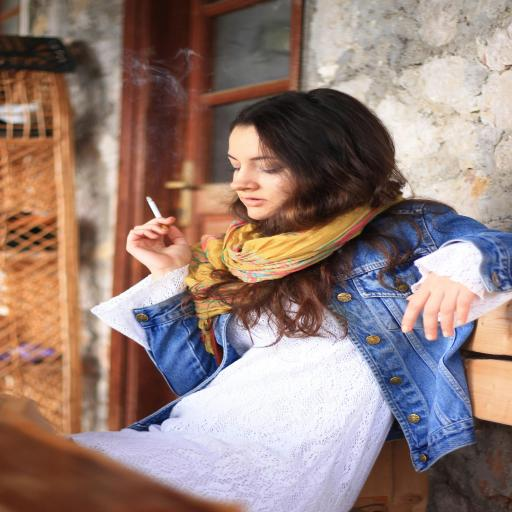terdeteksi pegang rokok: (106, 181, 209, 282)
